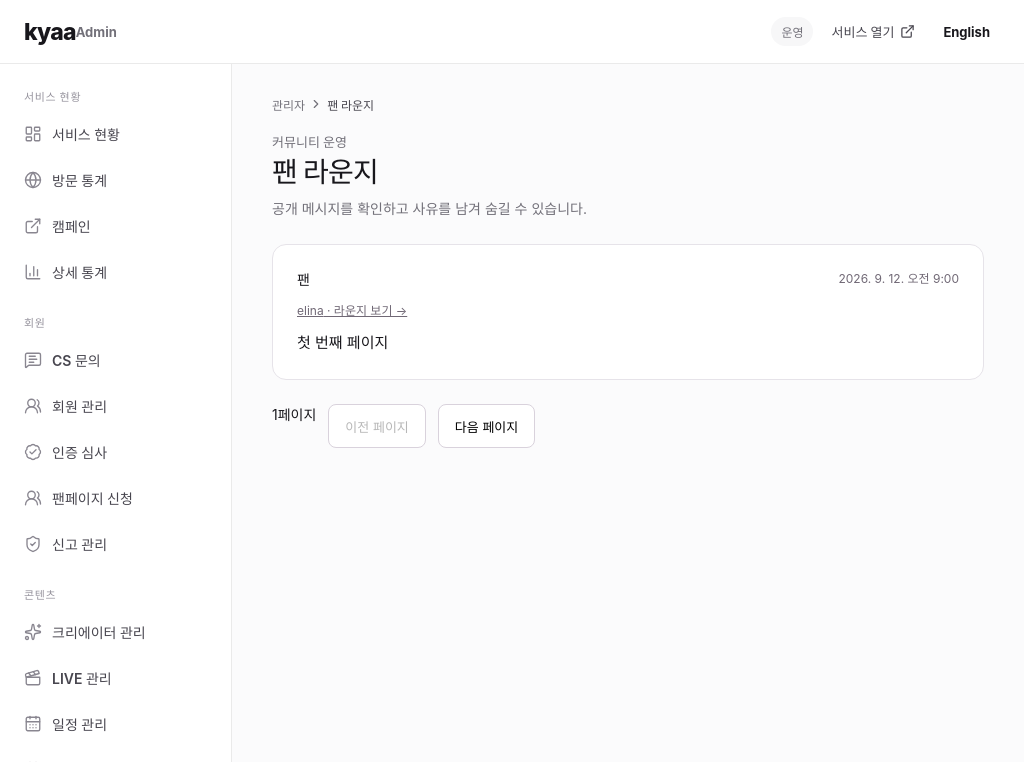
LoungeMessageManager pagination › moves through opaque cursors and returns through the cursor stack
Expected: the text "첫 번째 페이지" is shown, [297,333,388,352]
Click the button "다음 페이지" at point(487, 426), box [438,404,535,448]
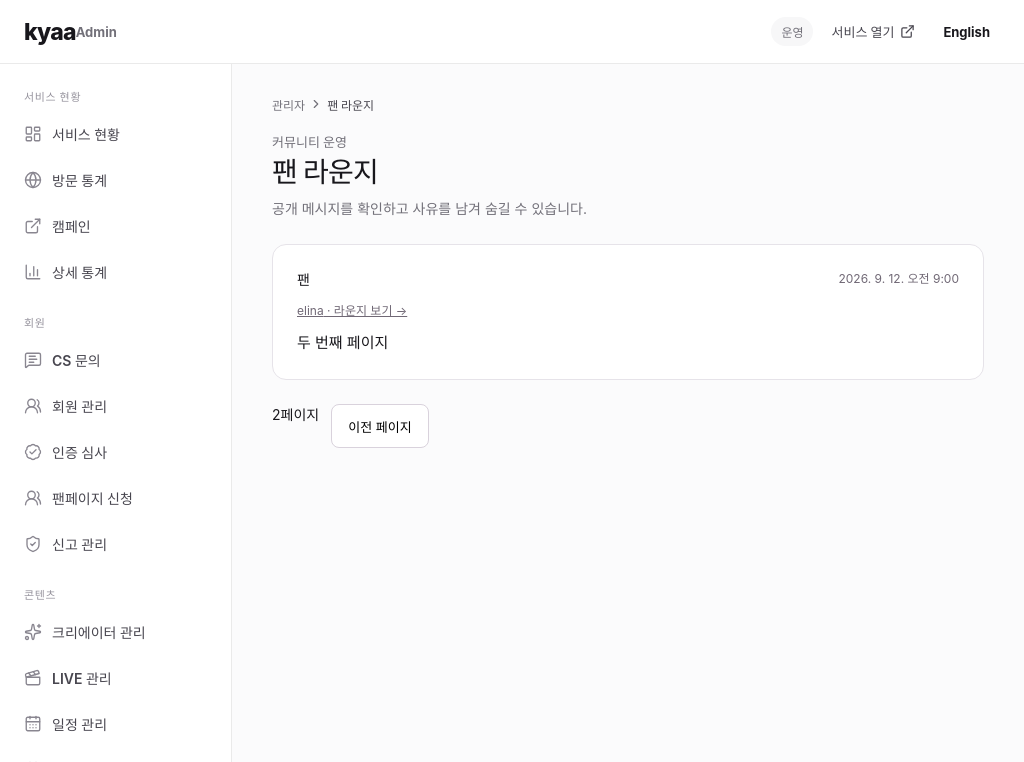
Now the text "두 번째 페이지" is shown, box [297,333,388,352]
Click the button "이전 페이지" at point(380, 426), box [331,404,429,448]
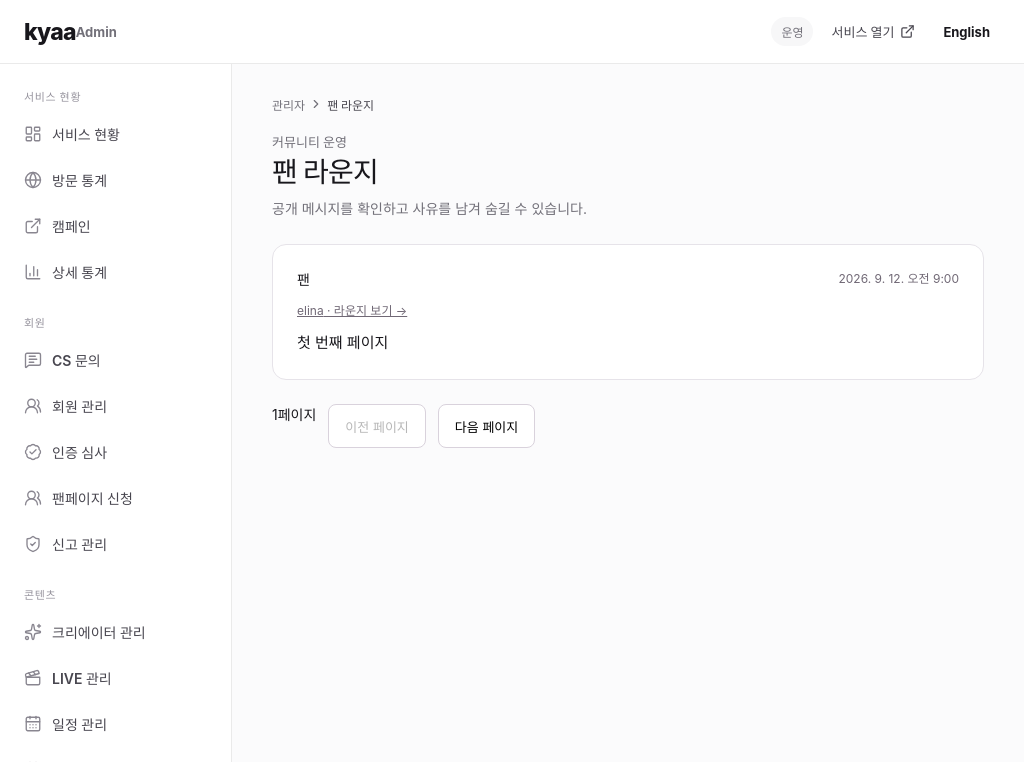
Now the text "첫 번째 페이지" is shown, box [297,333,388,352]
